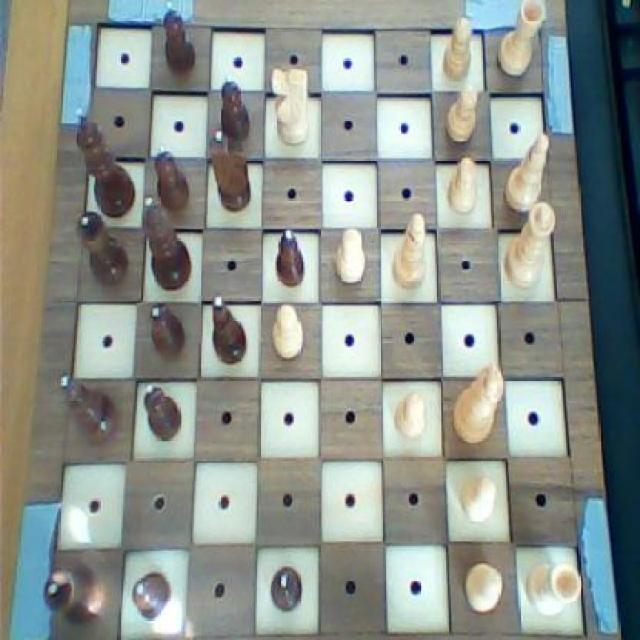bishop: (55, 371, 124, 451), (206, 288, 251, 373)
black-bishop: (74, 106, 138, 219)
black-king: (205, 126, 258, 214)
black-knight: (160, 0, 203, 80), (151, 138, 194, 214), (146, 300, 191, 365), (140, 380, 185, 445), (214, 68, 253, 140), (129, 566, 175, 622), (270, 226, 308, 292), (266, 563, 304, 615)
black-pawn: (138, 195, 194, 294)
black-queen: (77, 208, 132, 292), (39, 558, 104, 627)
black-rook: (501, 130, 554, 218), (268, 63, 314, 150), (389, 208, 430, 292)
white-bishop: (449, 356, 508, 448)
white-knight: (458, 556, 509, 616), (438, 82, 481, 150), (438, 14, 474, 84), (456, 466, 500, 523), (445, 152, 480, 218), (389, 386, 430, 442), (334, 225, 369, 289), (271, 299, 306, 363)
white-pawn: (500, 199, 558, 293)
white-queen: (495, 0, 544, 83), (523, 552, 584, 618)
